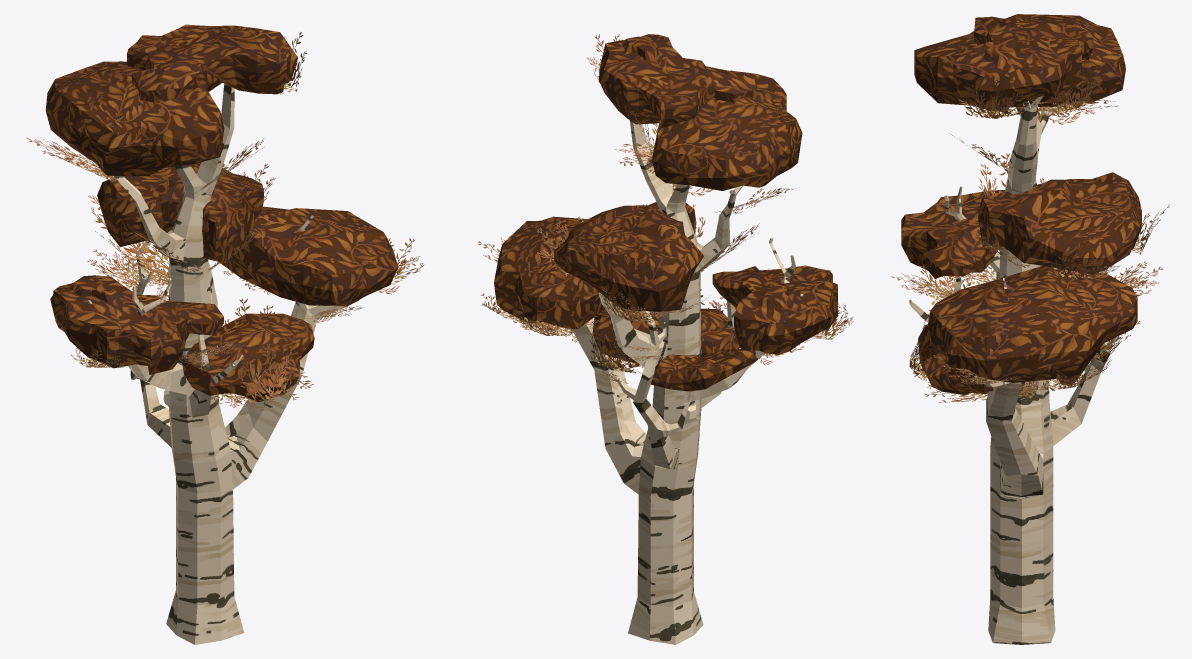
The model's file is 2D_Tree_small.fbx.
The picture shows the model from 3 angles, left to right: view 1: azimuth 30°, elevation 25°; view 2: azimuth 150°, elevation 25°; view 3: azimuth 270°, elevation 25°; orthographic projection. The views are drawn at different scales.
Parts seen in each view (by area): view 1: tree; view 2: tree; view 3: tree.
Part boxes in pixels (left/top/right/bottom): tree: left=26, top=24, right=423, bottom=644; tree: left=477, top=34, right=853, bottom=644; tree: left=891, top=14, right=1169, bottom=644.
Size of the model in its own units: 9.57 by 14.37 by 6.32.
